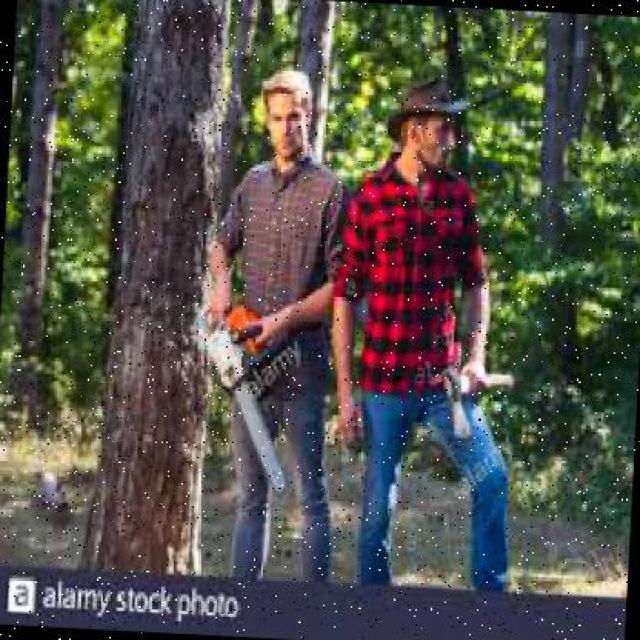poacher: (340, 63, 537, 542), (176, 64, 350, 556)
